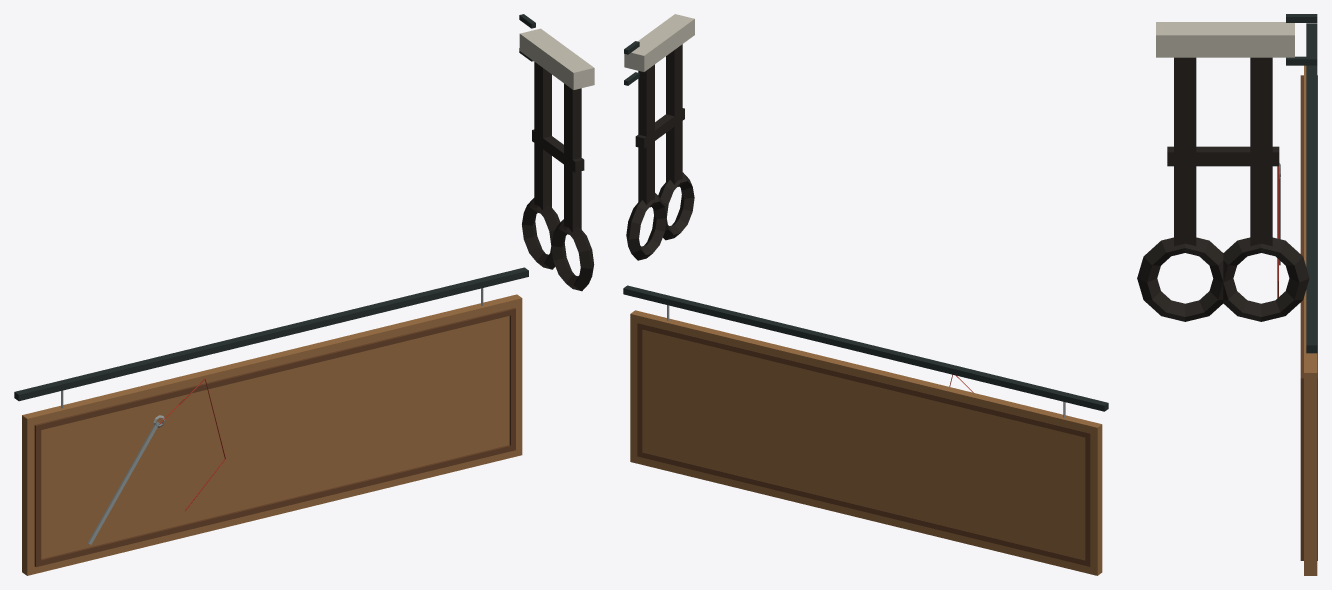
File: bang_tiem_may_be_tu_40.glb
3 views of the same model, side by side, from view 1: azimuth 30°, elevation 25°; view 2: azimuth 150°, elevation 25°; view 3: azimuth 270°, elevation 25° (orthographic). The views are drawn at different scales.
Parts seen in each view (by area): view 1: bang_tiem_may_be_tu_40; view 2: bang_tiem_may_be_tu_40; view 3: bang_tiem_may_be_tu_40.
Part boxes in pixels (bbox=[...]): bang_tiem_may_be_tu_40: bbox=[14, 14, 594, 575]; bang_tiem_may_be_tu_40: bbox=[623, 14, 1108, 575]; bang_tiem_may_be_tu_40: bbox=[1137, 14, 1317, 575].
Size of the model in its own units: 3.45 by 2.78 by 0.807.
